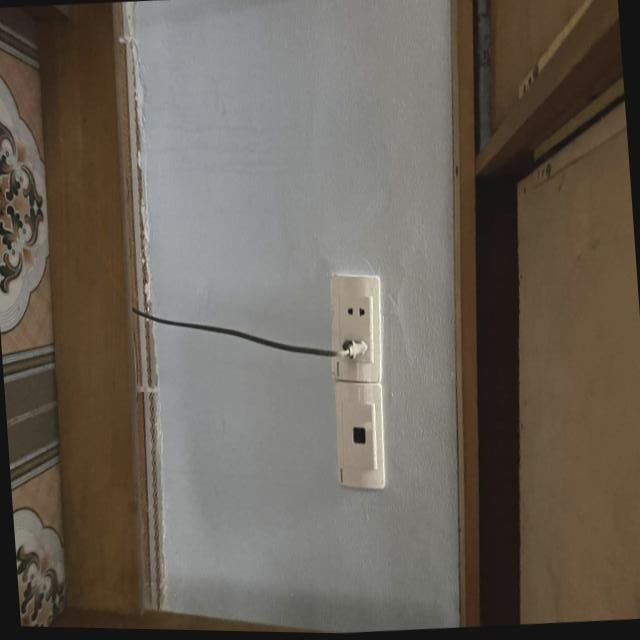outlet: (327, 270, 389, 384), (332, 378, 391, 492)
